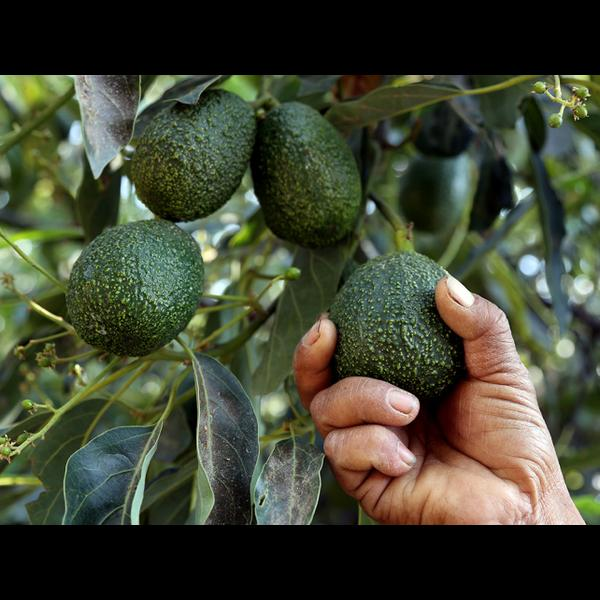unripe: (327, 249, 464, 405), (65, 219, 204, 357), (250, 100, 362, 249), (131, 89, 254, 223)
